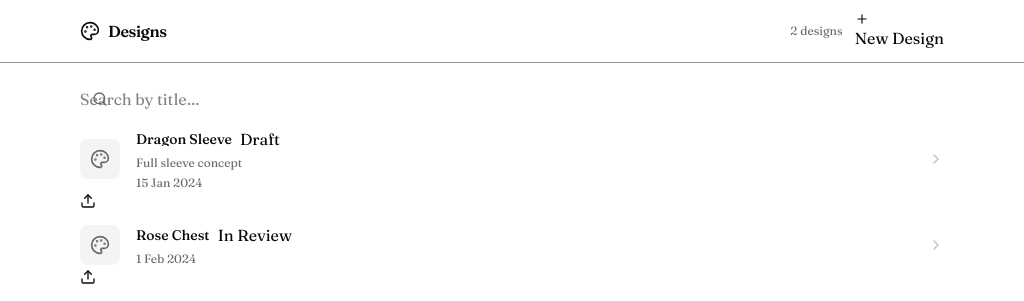
Test: DesignListPage › typing in the search bar filters designs by title
The image size is (1024, 301).
Check: the text "Dragon Sleeve" is shown, box x1=136 y1=132 x2=232 y2=146
Type "Dragon" into the field with placeholder "Search by title…" at (186, 99), box x1=80 y1=87 x2=291 y2=111
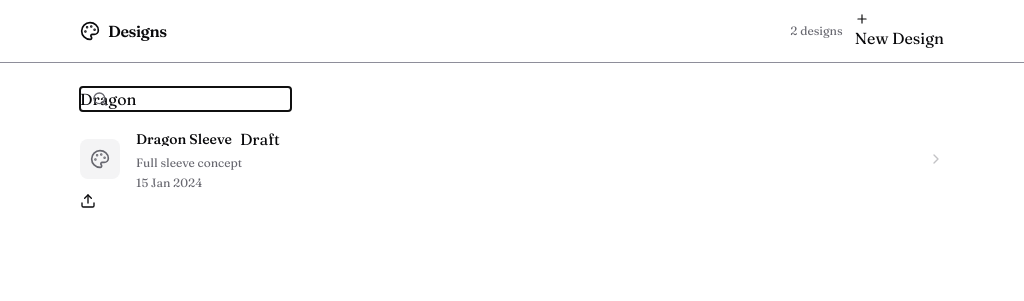
Check: the text "Dragon Sleeve" is shown, box x1=136 y1=132 x2=232 y2=146
Check: the link "Rose Chest" is gone
